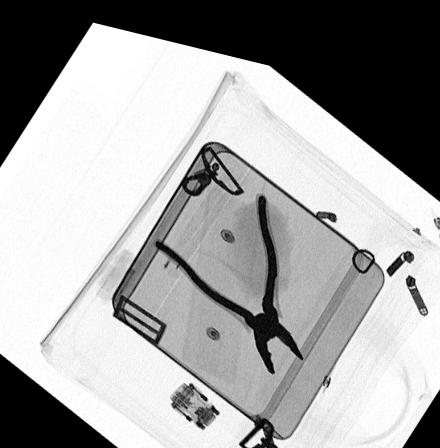Pliers: (152, 178, 305, 362)
